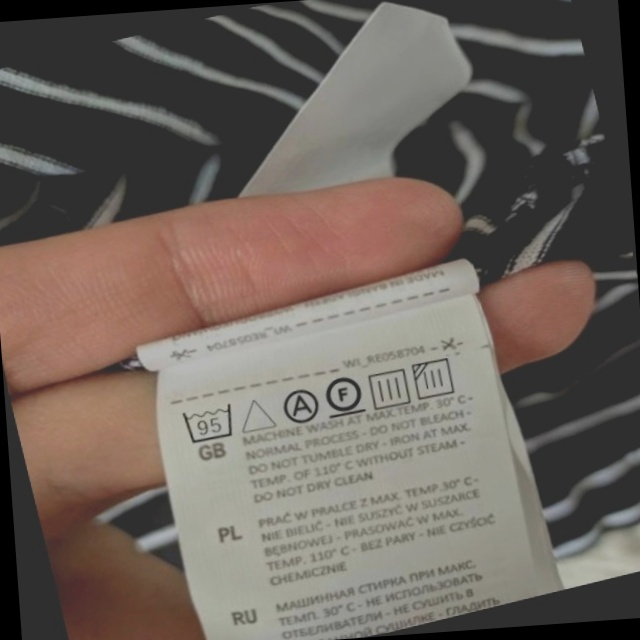95C: (177, 397, 242, 449)
bleach: (234, 389, 279, 439)
drip_dry: (363, 362, 416, 414)
drip_dry_in_shade: (409, 352, 464, 406)
dry_clean: (276, 383, 323, 429)
dry_clean_petrol_only: (320, 367, 369, 422)
